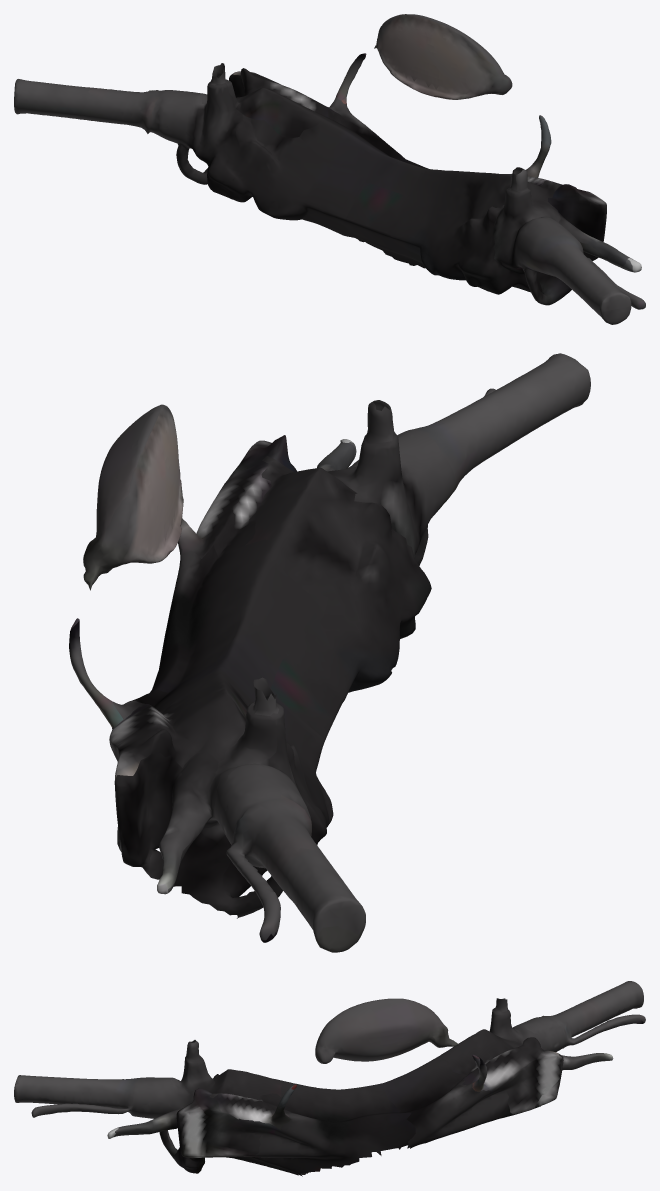
Rendered from blt150_04.obj.
The picture shows the model from 3 angles, top to bottom: view 1: azimuth 30°, elevation 25°; view 2: azimuth 150°, elevation 25°; view 3: azimuth 270°, elevation 25°; orthographic projection. The views are drawn at different scales.
Parts seen in each view (by area): view 1: blt150_04; view 2: blt150_04; view 3: blt150_04.
Boxes of the visible parts, x1,y1,x2,y2 form: blt150_04: (14, 14, 645, 324); blt150_04: (69, 353, 590, 952); blt150_04: (14, 981, 645, 1176).
Size of the model in its own units: 1.69 by 1.05 by 3.3.
